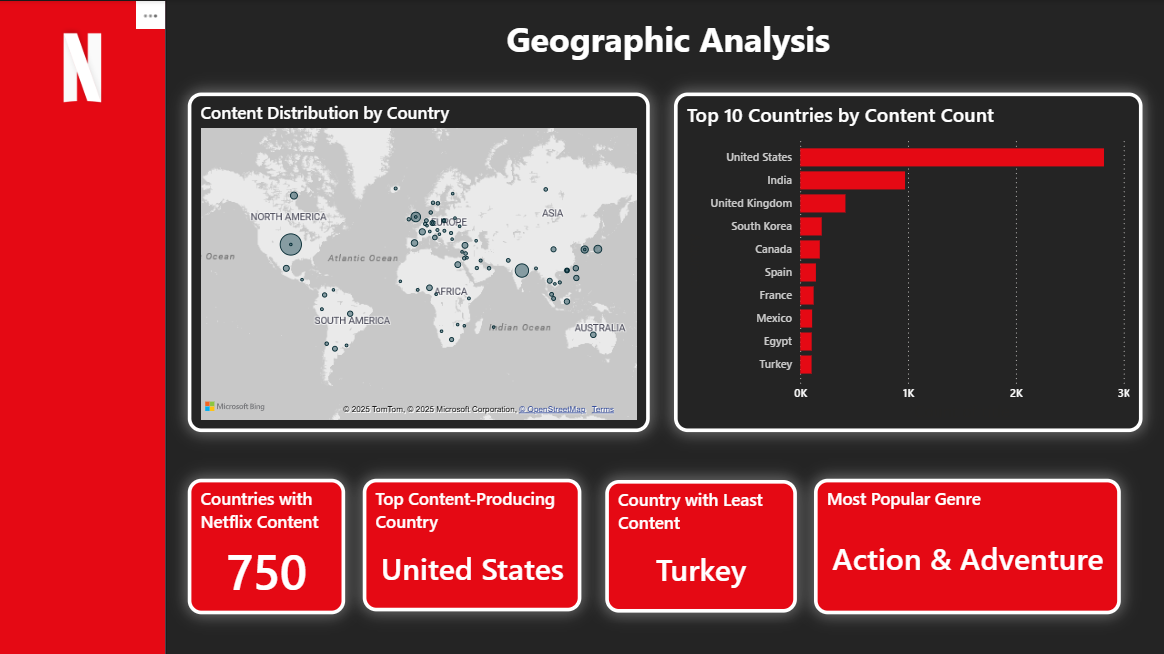

This screenshot's page, from the dashboard's own definition file:
{"tool":"powerbi","page":{"name":"Geographic Analysis","canvas":[1280,720],"ordinal":4},"visuals":[{"type":"shape","box":[0,0,183.3,720],"z":0},{"type":"map","title":"Content Distribution by Country","fields":{"Category":["netflix_titles.country"],"Size":["CountNonNull(netflix_titles.title)"]},"box":[207.1,101.4,507.1,372.9],"z":1000},{"type":"clusteredBarChart","title":"Top 10 Countries by Content Count","fields":{"Y":["CountNonNull(netflix_titles.title)"],"Category":["netflix_titles.country"]},"box":[741.4,101.4,514.3,372.9],"z":2000},{"type":"card","title":"Countries with Netflix Content","fields":{"Values":["Count(netflix_titles.country)"]},"box":[207.1,525.7,172.9,148.6],"z":2001},{"type":"card","title":"Top Content-Producing Country","fields":{"Values":["Min(netflix_titles.country)"]},"box":[400,525.7,240,145.7],"z":2002},{"type":"card","title":"Most Popular Genre","fields":{"Values":["Min(netflix_titles.listed_in)"]},"box":[894.3,525.7,337.1,148.6],"z":2003},{"type":"textbox","box":[532.9,12.9,404.3,68.6],"z":2004},{"type":"card","title":"Country with Least Content","fields":{"Values":["Min(netflix_titles.country)"]},"box":[665.7,527.1,210,145.7],"z":2005},{"type":"image","box":[17.1,24.3,150,94.3],"z":2006}]}

Visuals, with their boxes in screenshot pixels (x1, y1, x2, y2), scaled from the page's 1280x720 canvas onto the 1164x654 screenshot:
shape: [x1=0, y1=0, x2=167, y2=653]
"Content Distribution by Country" map: [x1=188, y1=92, x2=649, y2=431]
"Top 10 Countries by Content Count" clusteredBarChart: [x1=674, y1=92, x2=1142, y2=431]
"Countries with Netflix Content" card: [x1=188, y1=478, x2=346, y2=612]
"Top Content-Producing Country" card: [x1=364, y1=478, x2=582, y2=610]
"Most Popular Genre" card: [x1=813, y1=478, x2=1120, y2=612]
textbox: [x1=485, y1=12, x2=852, y2=74]
"Country with Least Content" card: [x1=605, y1=479, x2=796, y2=611]
image: [x1=16, y1=22, x2=152, y2=108]
